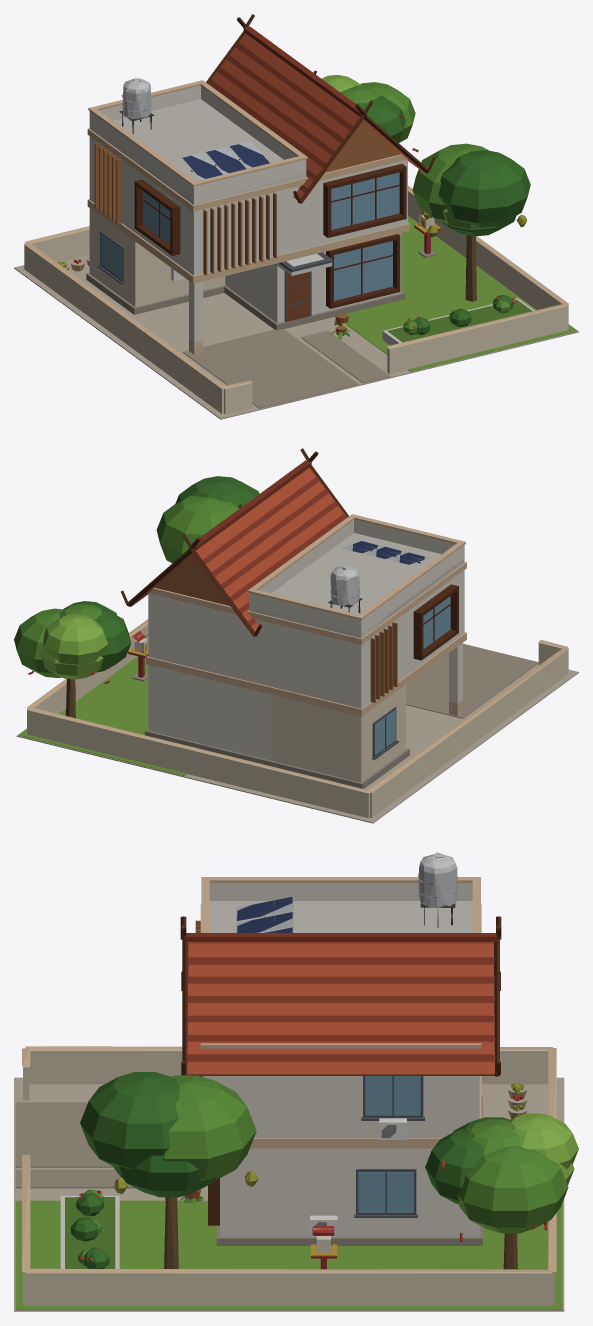
The model's file is home_1.glb.
3 renders of one model, top to bottom at view 1: azimuth 30°, elevation 25°; view 2: azimuth 150°, elevation 25°; view 3: azimuth 270°, elevation 25°, orthographic. The views are drawn at different scales.
Parts seen in each view (by area): view 1: body; view 2: body; view 3: body.
Boxes of the visible parts, box(x1,y1,x2,y2) form: body: box(14, 14, 578, 419); body: box(14, 448, 578, 823); body: box(14, 852, 578, 1311).
Bounding box in the file's own units: 16.63 × 9.68 × 16.32.
